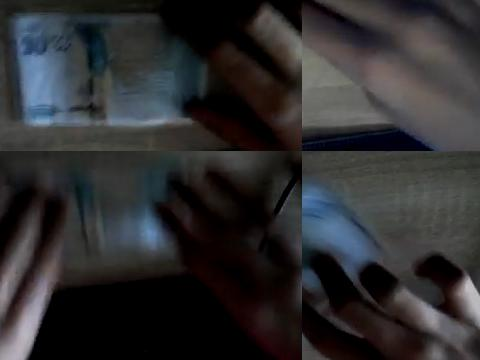20leva: (302, 178, 480, 360), (3, 8, 208, 127)
